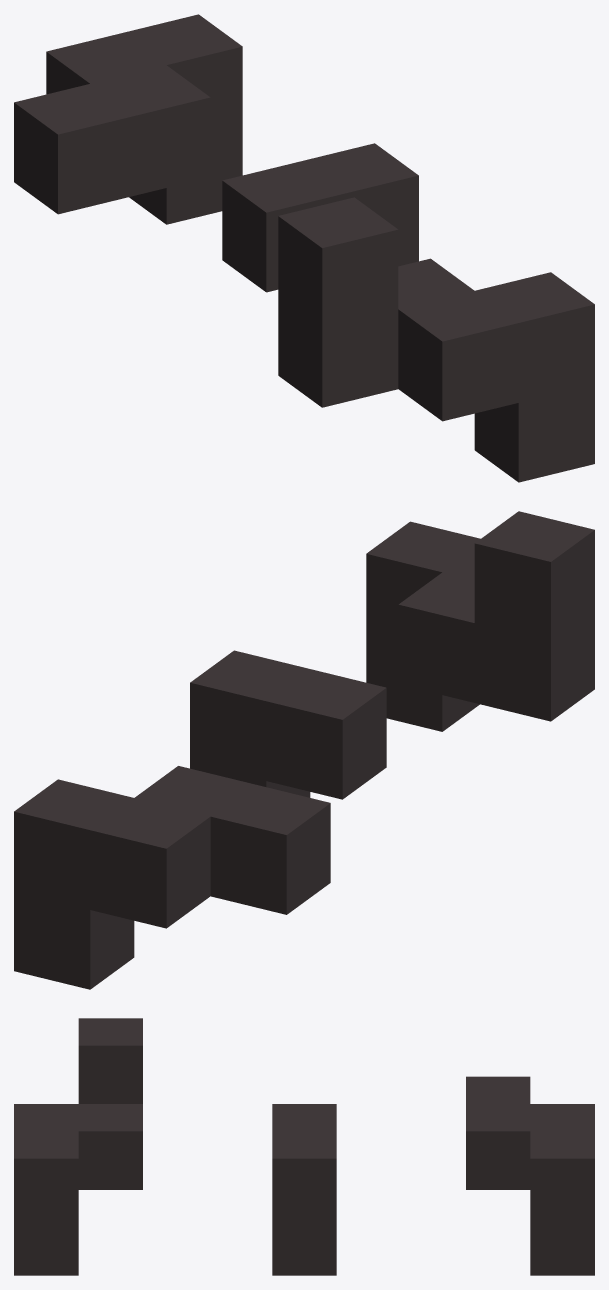
File: ladybug__leg_l.glb
3 renders of one model, top to bottom at view 1: azimuth 30°, elevation 25°; view 2: azimuth 150°, elevation 25°; view 3: azimuth 270°, elevation 25°, orthographic. The views are drawn at different scales.
Visible parts, largest first — view 1: ladybug__leg_l; view 2: ladybug__leg_l; view 3: ladybug__leg_l.
Part boxes in pixels (bbox=[...]): ladybug__leg_l: bbox=[14, 14, 594, 482]; ladybug__leg_l: bbox=[14, 511, 594, 989]; ladybug__leg_l: bbox=[14, 1018, 594, 1275].
Size of the model in its own units: 0.3 by 0.3 by 0.9.
1 material, 1 textured.
